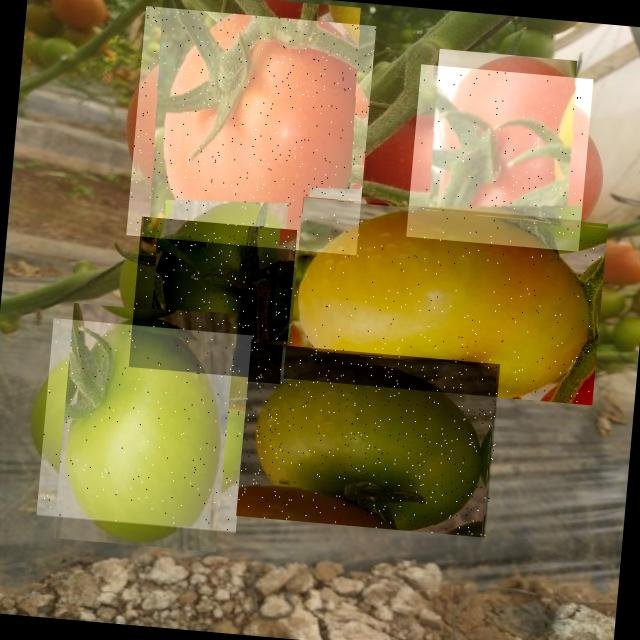Ripe Tomato: (126, 6, 376, 254), (406, 64, 593, 251)
Unripe Tomato: (286, 196, 608, 405), (237, 342, 502, 537), (36, 318, 253, 535), (128, 216, 297, 384)
